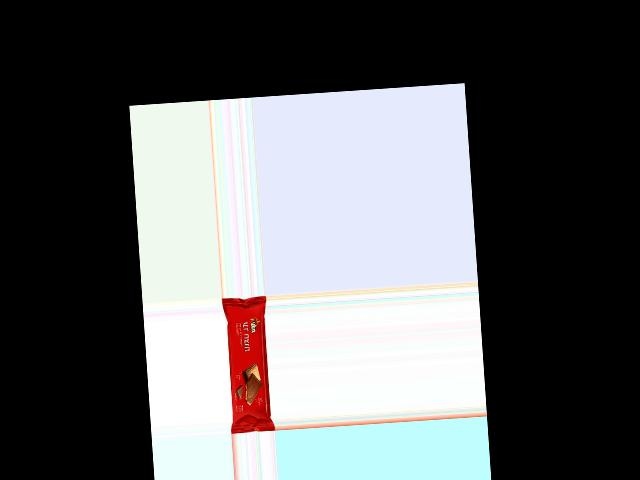chocolate: (221, 299, 274, 432)
